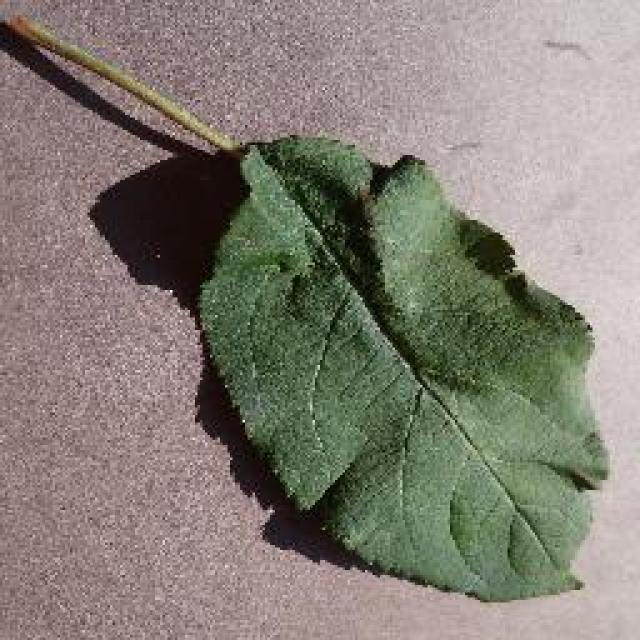apple healthy: (0, 7, 612, 602)
